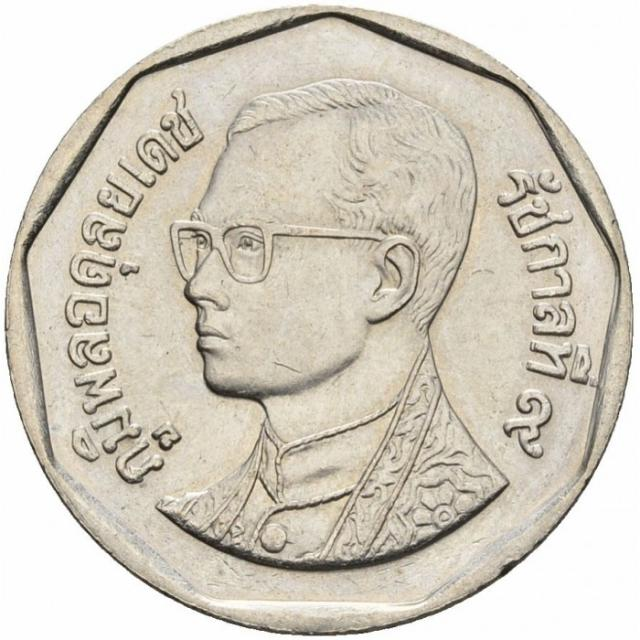5 Bath: (3, 1, 640, 640)
